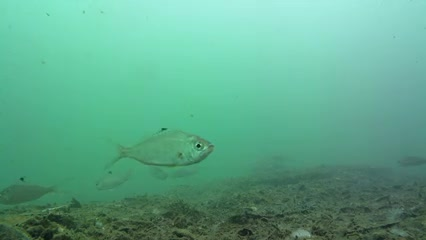smallfish: (107, 129, 217, 171)
